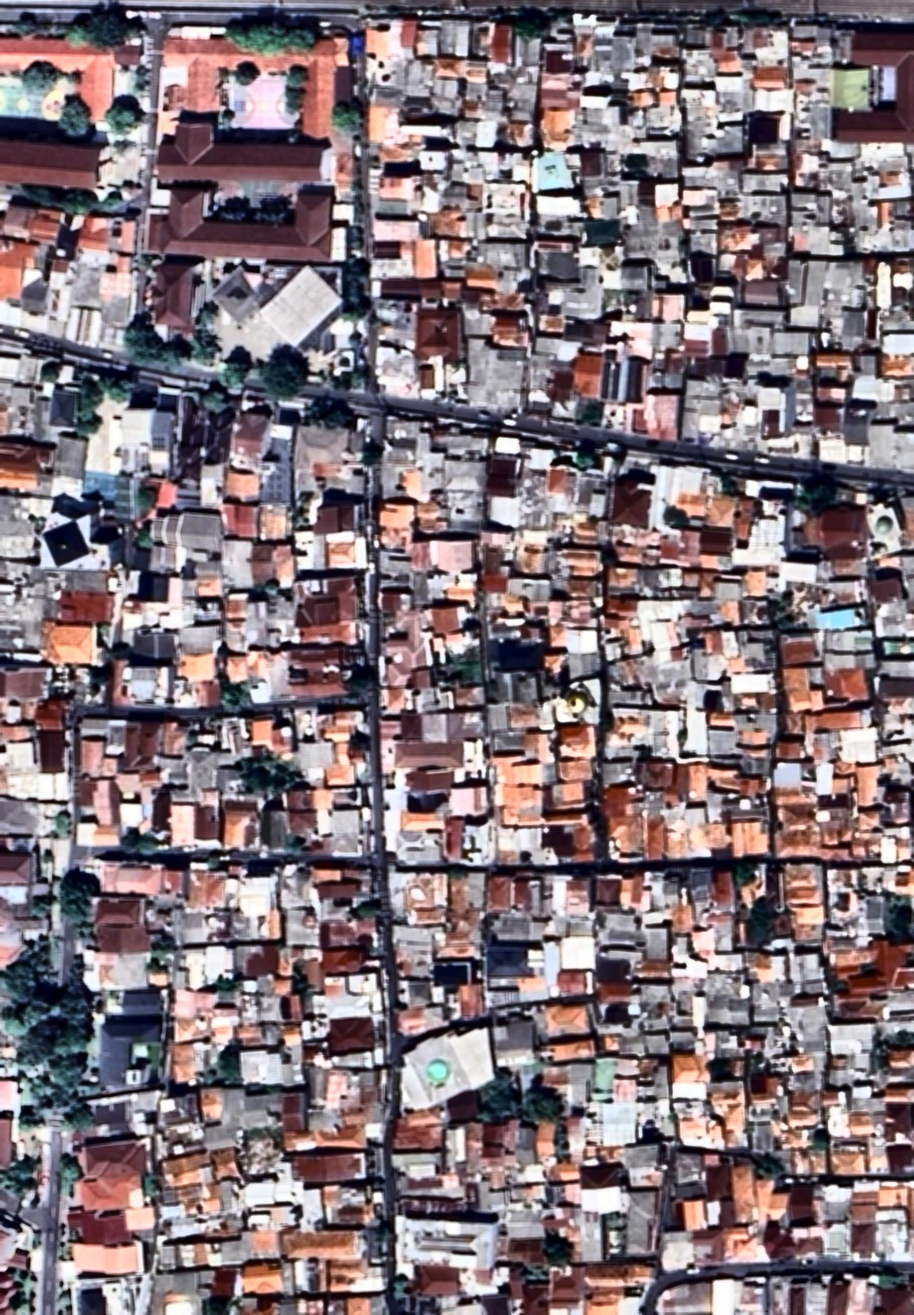building: (160, 25, 355, 141), (147, 186, 336, 264), (0, 35, 142, 126), (155, 119, 330, 184), (381, 1022, 506, 1113), (258, 263, 361, 366), (838, 32, 913, 143), (42, 501, 125, 578), (392, 1214, 502, 1269), (175, 392, 237, 488), (0, 139, 111, 192), (96, 1018, 162, 1090), (261, 403, 304, 510), (463, 341, 529, 408), (401, 1174, 506, 1215), (378, 610, 432, 689), (287, 646, 368, 698), (145, 262, 205, 332), (292, 574, 369, 628), (209, 262, 273, 326), (294, 422, 366, 478), (276, 1149, 383, 1186), (122, 379, 163, 475), (93, 1090, 165, 1141), (85, 393, 129, 476), (224, 648, 290, 703), (232, 395, 279, 472), (584, 1099, 655, 1148), (382, 416, 422, 499), (323, 971, 385, 1023), (63, 1240, 146, 1278), (80, 1136, 154, 1178), (68, 1174, 147, 1213), (672, 464, 717, 532), (531, 278, 603, 320), (151, 513, 221, 555), (325, 1182, 386, 1230), (72, 1275, 145, 1315), (296, 466, 368, 505), (493, 1007, 539, 1068), (152, 386, 182, 478), (43, 621, 104, 666), (121, 593, 195, 630), (535, 999, 600, 1041), (626, 1189, 664, 1259), (571, 110, 634, 152), (417, 304, 463, 361), (732, 325, 813, 357), (492, 67, 539, 122), (865, 503, 909, 561), (0, 800, 67, 838), (414, 427, 449, 499), (393, 1263, 461, 1300), (67, 1210, 133, 1248), (285, 1228, 363, 1260), (85, 952, 150, 990), (733, 860, 779, 913), (426, 602, 475, 651), (611, 476, 656, 529), (388, 871, 447, 911), (603, 358, 650, 408), (369, 104, 427, 144), (70, 250, 109, 309), (0, 239, 37, 301), (101, 862, 163, 899), (0, 560, 61, 597), (370, 341, 419, 387), (609, 526, 663, 567), (485, 973, 548, 1008), (487, 914, 550, 949), (0, 494, 49, 539), (394, 740, 464, 771), (665, 1149, 706, 1201), (222, 1230, 283, 1264), (627, 223, 683, 260), (825, 258, 863, 312), (127, 663, 177, 704), (0, 1214, 34, 1274), (537, 1035, 600, 1067), (490, 639, 546, 675), (716, 69, 757, 118), (656, 1279, 713, 1314), (586, 1258, 656, 1286), (373, 301, 419, 343), (254, 542, 295, 589), (0, 441, 56, 475), (544, 876, 594, 914), (329, 130, 355, 203), (823, 668, 870, 708), (847, 967, 914, 995), (161, 1153, 215, 1187), (315, 501, 369, 535), (648, 648, 695, 687), (570, 350, 605, 402), (654, 681, 706, 716), (483, 1118, 519, 1168), (561, 678, 601, 723), (609, 655, 654, 695), (823, 509, 869, 548), (660, 529, 706, 568), (387, 831, 443, 863), (650, 710, 685, 761), (242, 1263, 294, 1297), (396, 1005, 448, 1039), (329, 1261, 386, 1292), (321, 918, 378, 949), (519, 474, 550, 531), (239, 1048, 284, 1087), (756, 1178, 791, 1228), (575, 472, 613, 518), (484, 183, 531, 220), (493, 669, 540, 706), (443, 457, 490, 494), (877, 1207, 909, 1261), (763, 384, 795, 438), (537, 153, 582, 191), (155, 1268, 216, 1296), (368, 169, 423, 200), (565, 316, 612, 352), (654, 464, 680, 529), (196, 790, 225, 848), (831, 67, 871, 109), (94, 925, 154, 953), (677, 1116, 725, 1151), (161, 1090, 204, 1129), (368, 193, 423, 223), (222, 541, 255, 591), (450, 149, 497, 184), (490, 729, 537, 764), (326, 530, 368, 569), (789, 55, 832, 93), (611, 320, 654, 358), (1, 666, 52, 698), (62, 591, 113, 623), (0, 618, 45, 654), (127, 722, 160, 771), (648, 393, 683, 439), (828, 1053, 875, 1087), (747, 194, 794, 228), (732, 1163, 758, 1224), (461, 287, 493, 336), (856, 228, 914, 255), (126, 570, 172, 604), (55, 437, 89, 483), (385, 788, 450, 812), (0, 201, 38, 242), (244, 1181, 306, 1206), (302, 622, 364, 647), (414, 570, 458, 605), (770, 1276, 810, 1314), (828, 1023, 877, 1054), (134, 543, 180, 576), (316, 1125, 370, 1153), (271, 591, 299, 645), (126, 630, 178, 659), (0, 594, 58, 620), (21, 269, 53, 316), (595, 243, 627, 290), (777, 632, 824, 664), (625, 1140, 675, 1170), (433, 957, 483, 987), (100, 252, 134, 296), (391, 1152, 444, 1180), (830, 1137, 869, 1175), (81, 740, 120, 778), (285, 908, 322, 948), (449, 872, 486, 912), (221, 503, 261, 540), (745, 562, 786, 598), (868, 1062, 914, 1094), (50, 388, 82, 434), (525, 353, 555, 402), (799, 258, 829, 307), (813, 708, 874, 732), (330, 1017, 373, 1051), (749, 112, 796, 143), (30, 398, 61, 445), (94, 897, 146, 925), (179, 626, 223, 659), (810, 605, 868, 630), (443, 1087, 483, 1123), (512, 871, 544, 916), (29, 206, 64, 247), (235, 943, 277, 977), (641, 911, 669, 962), (608, 816, 642, 858), (170, 1042, 203, 1085), (572, 13, 596, 72), (295, 529, 327, 573), (247, 1205, 301, 1231), (244, 1095, 283, 1131), (182, 550, 227, 581), (298, 994, 327, 1042), (564, 1062, 594, 1108), (689, 867, 712, 927), (662, 1231, 694, 1274), (705, 1151, 733, 1200), (171, 1013, 215, 1044), (175, 679, 222, 708), (385, 811, 444, 834), (731, 822, 772, 855), (224, 470, 265, 503), (590, 1054, 617, 1104), (398, 977, 443, 1007), (837, 995, 887, 1022), (502, 1237, 548, 1266), (823, 924, 869, 953), (544, 31, 575, 74), (175, 948, 206, 991), (446, 428, 489, 459), (67, 307, 102, 345), (294, 1258, 329, 1296), (693, 825, 731, 860), (647, 616, 682, 654), (79, 214, 113, 253), (733, 1276, 767, 1315), (854, 180, 880, 231), (747, 476, 798, 502), (379, 550, 413, 589), (149, 789, 174, 842), (481, 289, 530, 316), (743, 280, 787, 310), (366, 56, 407, 88), (706, 286, 738, 327), (792, 1181, 821, 1226), (707, 998, 752, 1027), (122, 989, 170, 1016), (725, 652, 779, 676), (842, 728, 879, 763), (743, 25, 786, 55), (622, 263, 665, 293), (465, 819, 493, 865), (799, 99, 832, 138), (38, 731, 67, 775), (818, 439, 867, 465), (437, 540, 478, 571), (487, 950, 534, 977), (551, 1264, 586, 1300), (256, 995, 301, 1023), (707, 971, 752, 999), (872, 938, 914, 968), (705, 790, 739, 827), (393, 1126, 441, 1152), (824, 1089, 850, 1137), (394, 924, 446, 948), (655, 869, 687, 908), (452, 785, 491, 817), (492, 614, 540, 640), (313, 713, 356, 742), (495, 762, 541, 789), (776, 829, 822, 856), (258, 808, 286, 852), (249, 713, 277, 757), (506, 1210, 547, 1240), (240, 865, 281, 895), (747, 952, 788, 982), (870, 422, 895, 471), (406, 687, 455, 712), (497, 150, 533, 184), (0, 470, 51, 494), (548, 464, 581, 501), (311, 834, 364, 857), (246, 595, 269, 648), (284, 865, 313, 907), (701, 571, 743, 600), (722, 1106, 749, 1151), (541, 806, 596, 828), (440, 18, 471, 57), (693, 1229, 724, 1268), (823, 1179, 851, 1222), (0, 537, 43, 565), (371, 217, 421, 241), (494, 783, 544, 807), (66, 570, 116, 594), (18, 349, 48, 389), (176, 991, 217, 1020), (517, 824, 544, 868), (534, 253, 578, 280), (807, 226, 843, 259), (567, 649, 603, 682), (638, 1063, 670, 1100), (395, 769, 454, 789), (672, 1052, 710, 1083), (377, 144, 426, 168), (639, 178, 681, 206), (487, 242, 532, 268), (849, 1276, 879, 1315), (857, 764, 884, 807), (597, 14, 617, 72), (877, 1177, 912, 1210), (521, 442, 556, 475), (601, 915, 637, 947), (763, 867, 787, 915), (605, 567, 641, 599), (615, 23, 638, 73), (707, 1080, 748, 1108), (640, 756, 677, 787), (323, 948, 367, 974), (829, 892, 859, 930), (379, 718, 399, 775), (545, 827, 575, 865), (829, 159, 867, 189), (782, 663, 824, 690), (603, 788, 642, 817), (579, 1165, 626, 1189), (781, 982, 828, 1006), (119, 773, 153, 806), (487, 496, 521, 529), (851, 1180, 877, 1223), (580, 1187, 623, 1213), (785, 1005, 828, 1031), (186, 753, 217, 789), (381, 500, 417, 531), (435, 79, 465, 116), (211, 1146, 241, 1183), (672, 1200, 709, 1230), (685, 48, 715, 85), (397, 1103, 443, 1127), (538, 213, 584, 237), (566, 550, 604, 579), (81, 475, 119, 504), (536, 193, 586, 215), (563, 1118, 588, 1162), (772, 1054, 827, 1074), (423, 172, 449, 214), (886, 1104, 914, 1143), (596, 873, 622, 915), (622, 873, 650, 912), (683, 318, 711, 357), (794, 1225, 826, 1259), (0, 885, 32, 919), (142, 477, 176, 509), (727, 1229, 758, 1264), (414, 19, 441, 59), (618, 1056, 658, 1083), (97, 779, 121, 824), (736, 307, 790, 327), (640, 570, 680, 597), (418, 360, 447, 397), (573, 519, 610, 548), (747, 357, 798, 378), (149, 1295, 205, 1314), (861, 896, 889, 934), (733, 544, 786, 564), (203, 1122, 236, 1154), (221, 796, 265, 820), (698, 397, 722, 441), (734, 498, 758, 542), (762, 1227, 793, 1261), (561, 938, 595, 969), (791, 952, 825, 983), (428, 210, 467, 237), (785, 688, 824, 715), (547, 781, 589, 806), (706, 495, 736, 530), (642, 1004, 678, 1033), (817, 354, 853, 383), (877, 397, 913, 426), (488, 213, 528, 239), (395, 950, 432, 978), (162, 721, 190, 758), (582, 219, 620, 246), (208, 947, 235, 985), (800, 513, 827, 551), (739, 630, 777, 657), (749, 516, 787, 543), (200, 466, 225, 507), (813, 405, 844, 438), (418, 503, 449, 536), (862, 139, 913, 159), (825, 652, 876, 672), (870, 574, 904, 604), (514, 33, 543, 68), (559, 969, 594, 998), (783, 864, 822, 890), (179, 654, 218, 680), (283, 1089, 306, 1133), (687, 757, 709, 803), (850, 1085, 886, 1113), (299, 741, 335, 769), (743, 174, 793, 194), (678, 396, 698, 446), (841, 311, 866, 351), (462, 263, 499, 290), (458, 981, 485, 1018), (0, 698, 37, 725), (449, 712, 486, 739), (885, 789, 912, 826), (1, 853, 32, 885), (716, 126, 748, 157), (35, 701, 68, 731), (828, 630, 873, 652), (784, 559, 829, 581), (639, 599, 684, 621), (575, 825, 601, 863), (214, 1263, 243, 1297), (220, 716, 249, 750), (262, 507, 291, 541), (754, 66, 795, 90), (471, 21, 496, 60), (170, 805, 195, 844), (446, 494, 485, 519), (612, 707, 648, 734), (465, 1120, 484, 1171), (809, 1271, 831, 1315), (779, 1127, 823, 1149), (781, 1072, 825, 1094), (446, 184, 483, 210), (0, 742, 37, 768), (686, 374, 723, 400), (876, 614, 913, 640), (830, 550, 867, 576), (301, 1188, 325, 1228), (651, 320, 684, 349), (0, 382, 33, 411), (681, 162, 715, 190), (408, 59, 433, 97), (637, 20, 656, 70), (551, 915, 594, 937), (498, 825, 520, 868), (444, 817, 465, 862), (650, 296, 685, 323), (512, 578, 553, 601), (787, 258, 807, 305), (283, 1048, 307, 1087), (541, 1065, 567, 1101), (755, 89, 794, 113), (188, 861, 207, 910), (748, 1075, 781, 1103), (508, 702, 541, 730), (669, 762, 690, 806), (548, 371, 576, 404), (608, 687, 650, 709), (483, 548, 516, 576), (414, 239, 437, 279), (161, 1215, 201, 1238), (489, 872, 512, 912), (332, 810, 366, 837), (517, 550, 551, 577), (851, 1223, 875, 1261), (647, 813, 666, 861), (830, 946, 873, 967), (223, 1087, 245, 1128), (546, 1182, 582, 1207), (689, 230, 719, 260), (118, 479, 138, 524), (706, 727, 737, 756), (201, 1087, 224, 1126), (558, 759, 597, 782), (2, 410, 30, 442), (687, 710, 706, 757), (654, 345, 687, 372), (815, 731, 842, 764), (536, 1121, 558, 1161), (491, 314, 531, 336), (862, 257, 878, 312), (486, 88, 511, 123), (498, 269, 533, 294), (645, 64, 680, 89), (740, 406, 765, 441), (487, 474, 522, 499), (850, 1114, 888, 1137), (733, 673, 779, 692), (528, 732, 557, 762), (169, 577, 199, 606), (402, 123, 453, 140), (881, 714, 913, 741), (703, 528, 735, 555), (348, 1294, 389, 1315), (493, 24, 513, 67), (709, 765, 742, 791), (818, 381, 851, 407), (782, 711, 815, 737), (369, 260, 414, 279), (109, 660, 128, 705), (780, 804, 817, 827), (647, 155, 681, 180), (540, 90, 582, 110), (523, 1284, 551, 1314), (444, 1125, 465, 1165), (161, 757, 189, 787), (653, 19, 683, 47), (678, 84, 718, 105), (873, 156, 913, 177), (774, 785, 816, 805), (736, 692, 778, 712), (380, 588, 415, 612), (887, 1144, 914, 1175), (732, 254, 763, 281), (50, 283, 72, 321), (178, 1184, 222, 1203), (874, 379, 912, 401), (550, 498, 572, 536), (372, 281, 421, 298), (580, 69, 612, 95), (845, 414, 871, 446), (568, 600, 600, 626), (599, 961, 635, 984), (671, 957, 707, 980), (139, 721, 162, 757), (587, 195, 620, 220), (398, 18, 418, 59), (648, 371, 689, 391), (240, 894, 279, 915), (893, 432, 914, 471), (499, 807, 542, 826), (825, 1223, 849, 1257), (793, 1150, 827, 1174), (164, 863, 186, 900), (102, 295, 131, 323), (849, 350, 878, 378), (707, 1199, 734, 1229), (719, 1029, 746, 1059), (287, 810, 317, 837), (742, 600, 772, 627), (500, 124, 535, 147), (880, 1289, 912, 1314), (181, 912, 206, 944), (560, 723, 600, 743), (535, 312, 567, 337), (783, 889, 825, 908), (735, 713, 777, 732), (603, 763, 636, 787), (687, 117, 723, 139), (686, 136, 719, 160), (721, 227, 754, 251), (665, 830, 692, 859), (722, 355, 749, 384), (775, 762, 804, 789), (886, 755, 913, 784), (376, 688, 405, 715), (56, 225, 79, 259), (797, 1030, 827, 1056), (106, 719, 126, 758), (874, 678, 913, 698), (0, 339, 20, 378), (604, 1036, 645, 1055), (446, 911, 483, 932), (126, 1207, 157, 1232), (570, 627, 601, 652), (600, 983, 635, 1005), (284, 1131, 316, 1155), (465, 740, 489, 772), (412, 538, 436, 570), (207, 868, 226, 908), (669, 806, 707, 826), (824, 309, 843, 349), (317, 882, 359, 900), (868, 1138, 889, 1174), (885, 866, 913, 893), (717, 171, 744, 199), (688, 257, 716, 284), (711, 25, 741, 50), (282, 1297, 326, 1314), (481, 1293, 515, 1315), (727, 382, 761, 404), (606, 597, 640, 619), (484, 528, 518, 550), (19, 311, 50, 335), (224, 817, 248, 848), (223, 621, 247, 652), (1, 1119, 15, 1172), (586, 105, 623, 125), (644, 107, 681, 127), (566, 580, 603, 600), (239, 1296, 280, 1314), (340, 1104, 372, 1127), (639, 981, 671, 1004), (333, 787, 365, 810), (829, 1280, 850, 1315), (792, 155, 813, 190), (824, 140, 859, 161), (814, 761, 835, 796), (719, 198, 747, 224), (852, 378, 878, 406), (320, 899, 353, 921), (879, 355, 912, 377), (752, 982, 781, 1007), (508, 1165, 546, 1184), (309, 1068, 328, 1106), (687, 360, 725, 379), (510, 1184, 546, 1204), (308, 1106, 338, 1130), (683, 20, 707, 50), (271, 725, 294, 756), (337, 741, 368, 764), (401, 712, 424, 743), (455, 685, 486, 708), (325, 765, 357, 787), (759, 496, 796, 515), (407, 909, 446, 927), (887, 990, 914, 1016), (767, 433, 794, 459), (223, 594, 249, 621), (366, 29, 391, 57), (221, 1179, 241, 1214), (518, 1124, 535, 1165), (543, 109, 572, 133), (820, 796, 849, 820), (703, 629, 727, 658), (875, 598, 908, 619), (455, 119, 478, 149), (750, 1123, 773, 1153), (713, 50, 743, 73), (729, 806, 772, 822), (1, 838, 50, 852), (547, 1162, 583, 1181), (714, 868, 733, 904), (877, 658, 913, 677), (559, 743, 599, 760), (304, 1042, 330, 1068), (857, 867, 883, 893), (533, 334, 561, 358), (717, 600, 741, 628), (196, 718, 219, 747), (600, 1005, 637, 1023), (788, 906, 825, 924), (715, 1279, 734, 1314), (387, 17, 404, 56), (433, 58, 466, 78), (303, 959, 323, 992), (790, 1091, 823, 1111), (741, 775, 771, 797), (183, 1200, 224, 1216), (791, 24, 832, 40), (609, 140, 650, 156), (797, 381, 813, 422), (789, 306, 820, 327), (491, 457, 522, 478), (81, 717, 108, 741), (447, 520, 483, 538), (178, 483, 202, 510), (372, 88, 406, 107), (226, 864, 241, 907), (494, 435, 522, 458), (312, 862, 344, 882), (881, 335, 913, 355), (691, 928, 713, 957), (695, 1030, 717, 1059), (9, 775, 38, 797), (488, 703, 510, 732), (874, 556, 903, 578), (509, 1267, 527, 1302), (536, 239, 581, 253), (589, 1286, 626, 1303), (684, 189, 717, 208), (769, 1151, 794, 1176), (435, 945, 483, 958), (751, 157, 790, 173), (625, 407, 649, 433), (582, 151, 605, 178), (646, 1033, 669, 1060), (424, 713, 447, 740), (50, 258, 70, 289), (742, 757, 773, 777), (421, 150, 449, 172), (1, 1270, 15, 1314), (333, 228, 350, 264), (631, 1169, 665, 1187), (793, 924, 827, 942), (196, 601, 225, 622), (758, 225, 790, 244), (484, 1166, 509, 1190), (716, 953, 746, 973), (0, 919, 50, 931), (627, 108, 647, 138), (715, 329, 735, 359), (878, 259, 890, 309), (882, 311, 912, 331), (237, 1025, 263, 1048), (614, 1077, 637, 1103), (738, 923, 761, 949), (0, 945, 26, 968), (620, 181, 643, 207), (445, 987, 462, 1022), (692, 647, 709, 682), (476, 121, 498, 148), (0, 1080, 18, 1113), (670, 905, 692, 932), (763, 934, 796, 952), (759, 242, 792, 260), (753, 142, 790, 158), (332, 1051, 363, 1070), (0, 723, 31, 742), (34, 244, 55, 272), (714, 925, 735, 953), (635, 294, 656, 322), (285, 790, 314, 810), (877, 183, 911, 200), (646, 138, 682, 154), (702, 553, 734, 571), (627, 627, 645, 659), (791, 356, 813, 382), (92, 827, 122, 846), (119, 219, 136, 252), (66, 1127, 99, 1144), (639, 962, 672, 979), (334, 709, 367, 726), (447, 585, 480, 602), (672, 980, 707, 996), (0, 931, 40, 945), (714, 158, 749, 174), (467, 59, 490, 83), (166, 84, 185, 113), (468, 212, 487, 241), (168, 908, 187, 937), (604, 153, 623, 182), (521, 531, 550, 550), (218, 767, 240, 792), (159, 110, 180, 136), (0, 302, 21, 328), (827, 868, 853, 889), (721, 403, 742, 429), (778, 740, 804, 761), (540, 73, 574, 89), (585, 179, 621, 194), (445, 932, 483, 946), (829, 579, 867, 593), (721, 428, 744, 451), (674, 1101, 707, 1117), (687, 203, 720, 219), (606, 641, 630, 663), (881, 741, 912, 758), (543, 132, 572, 150), (371, 240, 400, 258), (148, 905, 168, 931), (198, 578, 224, 598), (773, 913, 792, 940), (631, 91, 658, 110), (614, 73, 646, 89), (653, 45, 683, 62), (626, 208, 656, 225), (876, 200, 893, 230), (671, 1030, 693, 1053), (442, 280, 466, 301), (787, 1113, 823, 1127), (793, 136, 821, 154), (606, 731, 634, 749), (672, 1084, 705, 1099), (753, 1006, 779, 1025), (484, 576, 510, 595), (213, 1008, 240, 1026), (835, 589, 862, 607), (763, 258, 785, 280), (282, 1023, 303, 1046), (833, 773, 856, 794), (494, 333, 531, 346), (857, 810, 881, 830), (881, 835, 897, 865), (707, 653, 723, 683), (552, 1300, 586, 1314), (867, 831, 884, 859), (750, 1105, 775, 1124), (902, 497, 913, 540), (685, 602, 721, 615), (816, 196, 831, 227), (865, 310, 881, 339), (649, 126, 682, 140), (313, 789, 333, 812), (541, 702, 558, 729), (606, 949, 644, 961), (790, 230, 809, 254), (336, 202, 354, 227), (278, 946, 293, 976), (839, 34, 854, 64), (884, 1087, 912, 1103), (836, 965, 864, 981), (53, 773, 69, 801), (684, 106, 716, 120), (656, 204, 682, 221), (741, 732, 775, 745), (257, 975, 277, 997), (103, 326, 126, 345), (465, 82, 488, 101), (880, 171, 909, 186), (724, 629, 739, 658), (603, 616, 632, 631), (803, 762, 817, 793), (742, 745, 773, 759), (790, 39, 817, 55), (790, 211, 814, 229), (503, 597, 527, 615), (757, 56, 790, 69), (604, 747, 637, 760), (790, 193, 815, 210), (551, 599, 568, 624), (693, 998, 707, 1028), (81, 780, 95, 810), (420, 280, 442, 299), (77, 824, 96, 846), (889, 270, 911, 289), (550, 626, 569, 648), (36, 775, 54, 798), (673, 934, 690, 958), (317, 812, 334, 836), (544, 652, 561, 676), (823, 847, 852, 861), (150, 188, 170, 208), (888, 1051, 913, 1067), (851, 838, 867, 863), (47, 319, 66, 340), (465, 101, 486, 120), (890, 288, 911, 307), (893, 199, 914, 218), (164, 67, 186, 85), (450, 240, 472, 258), (542, 762, 560, 784), (683, 617, 718, 628), (624, 1018, 645, 1036), (890, 256, 911, 274), (530, 600, 551, 618), (403, 98, 432, 111), (722, 679, 735, 708), (709, 713, 734, 728), (587, 1303, 621, 1314), (707, 690, 724, 712), (267, 912, 280, 940), (689, 218, 717, 231), (123, 804, 142, 823), (265, 1023, 280, 1047), (620, 1298, 642, 1314), (898, 839, 914, 861), (345, 867, 372, 880), (793, 421, 813, 438), (776, 1093, 792, 1114), (582, 247, 598, 268), (888, 699, 912, 713), (327, 1297, 345, 1315), (644, 792, 662, 810), (173, 789, 196, 803), (658, 91, 681, 105), (818, 818, 841, 832), (772, 1114, 787, 1135), (891, 215, 912, 230), (884, 826, 910, 838), (688, 308, 710, 322), (276, 978, 294, 995), (560, 345, 577, 363), (682, 571, 700, 588), (140, 772, 160, 787), (440, 258, 467, 269), (598, 1024, 622, 1036), (213, 1026, 235, 1039), (678, 995, 693, 1014), (162, 1187, 177, 1205), (400, 240, 414, 259), (731, 1059, 745, 1078), (583, 96, 607, 107), (712, 914, 736, 925), (841, 826, 856, 843), (162, 1205, 181, 1218), (675, 1016, 694, 1029), (823, 830, 839, 845), (219, 753, 237, 766), (714, 903, 737, 913), (440, 240, 450, 262), (477, 242, 488, 262), (746, 1038, 764, 1050), (152, 974, 169, 986), (445, 268, 467, 277), (739, 907, 750, 925), (682, 588, 697, 601), (905, 576, 913, 600), (519, 281, 533, 294), (359, 882, 373, 895), (817, 41, 830, 53), (905, 556, 912, 575), (239, 748, 251, 759), (466, 250, 477, 260)
tree: (114, 313, 197, 384), (61, 0, 146, 61), (249, 339, 321, 411), (48, 864, 104, 928), (225, 17, 319, 55), (0, 948, 53, 1015), (96, 89, 153, 145), (11, 1018, 67, 1073), (477, 1067, 524, 1123), (516, 1079, 567, 1130), (16, 51, 65, 101), (210, 345, 258, 396), (741, 894, 787, 946), (48, 1012, 98, 1058), (43, 1048, 93, 1093), (62, 954, 95, 1022), (52, 90, 95, 141), (16, 987, 66, 1030), (46, 1063, 82, 1119), (342, 256, 371, 324), (55, 1099, 100, 1141), (91, 363, 133, 405), (794, 476, 837, 515), (13, 1065, 53, 1106), (0, 1155, 37, 1199), (194, 380, 235, 418), (305, 397, 354, 428), (120, 826, 162, 860), (189, 329, 224, 369), (227, 56, 263, 92), (53, 1148, 85, 1188), (8, 1269, 36, 1314), (18, 181, 64, 208), (8, 7, 43, 42), (513, 7, 549, 40), (190, 294, 224, 328), (751, 1151, 786, 1184), (130, 478, 163, 513), (21, 930, 51, 968), (72, 404, 104, 439), (76, 374, 106, 411), (208, 197, 254, 221), (240, 761, 273, 794), (269, 759, 301, 792), (732, 7, 787, 26), (31, 1083, 60, 1118), (889, 895, 913, 937), (325, 367, 367, 391), (332, 100, 362, 133), (148, 929, 179, 960), (220, 681, 253, 710), (248, 201, 289, 224), (61, 189, 98, 214), (2, 1003, 27, 1039), (210, 971, 240, 1001), (702, 1051, 732, 1081), (543, 1235, 572, 1265), (730, 856, 757, 888), (215, 1047, 240, 1081), (17, 1103, 45, 1133), (203, 844, 231, 874), (351, 668, 380, 695), (53, 1280, 75, 1315), (361, 433, 383, 468), (49, 807, 73, 838), (281, 84, 305, 114), (353, 171, 365, 228), (386, 1273, 412, 1299), (582, 397, 605, 426), (877, 1269, 910, 1289), (140, 951, 165, 976), (283, 64, 308, 89), (662, 504, 689, 527), (283, 834, 308, 858), (86, 664, 111, 688), (870, 1043, 889, 1074), (367, 1220, 391, 1244), (201, 1064, 224, 1087), (347, 729, 371, 751), (30, 893, 51, 918), (134, 520, 153, 547), (890, 1027, 914, 1048), (572, 447, 596, 468), (203, 1295, 229, 1314), (39, 360, 60, 383), (810, 1127, 830, 1151), (102, 641, 130, 658), (766, 595, 787, 617), (719, 472, 739, 495), (141, 1173, 158, 1199), (75, 920, 95, 942), (99, 191, 125, 207), (135, 251, 158, 268), (777, 612, 795, 631), (104, 988, 124, 1005), (349, 236, 363, 252), (781, 592, 792, 605)
